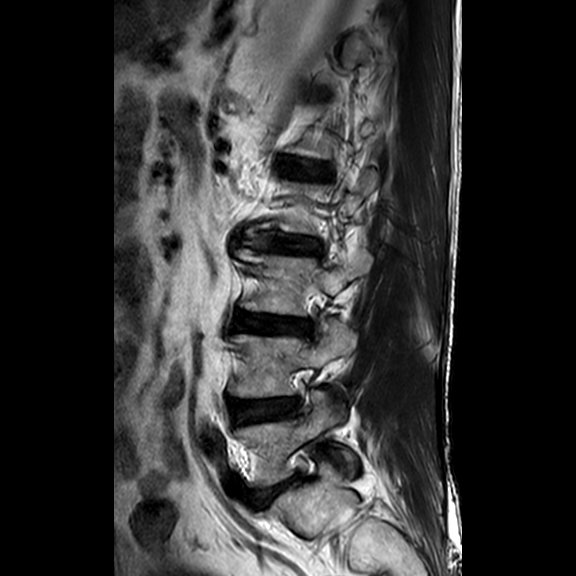LFS1: (276, 360, 327, 426), (277, 438, 328, 497)
